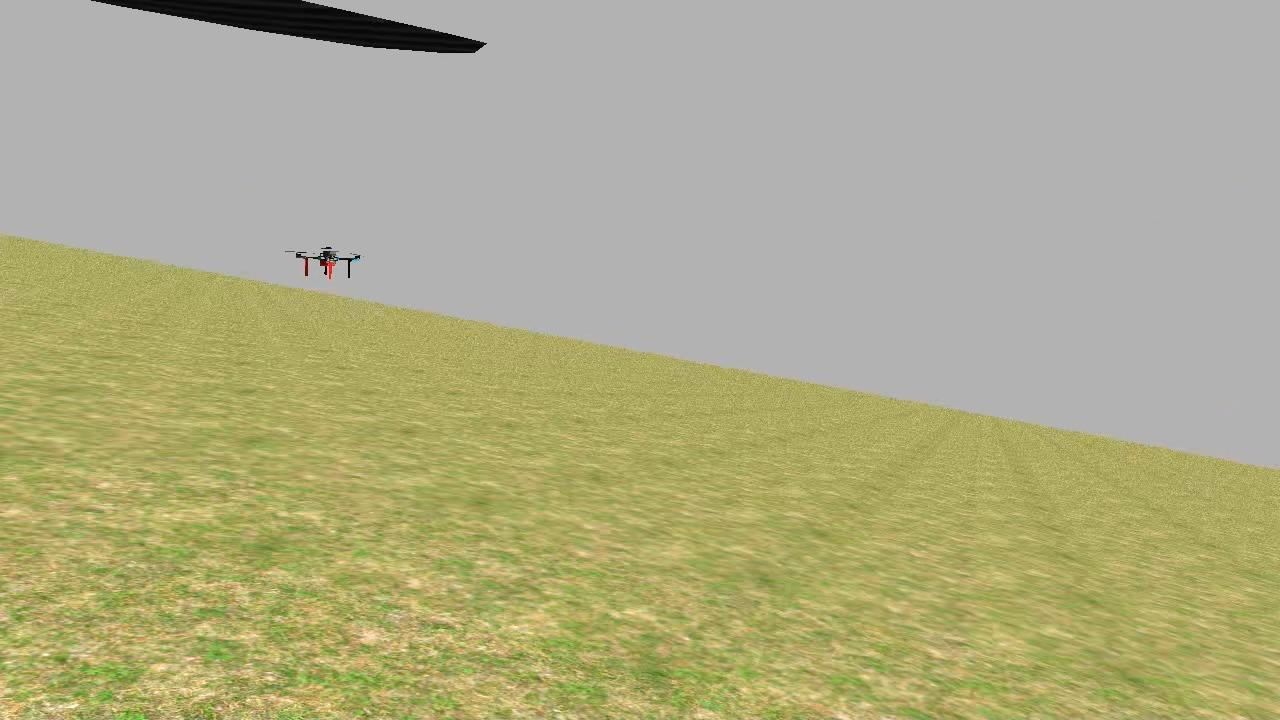UAV: (288, 232, 372, 284)
